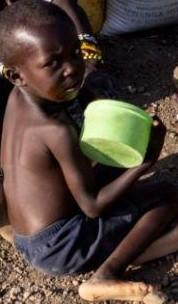Stunting: (3, 5, 99, 108)
